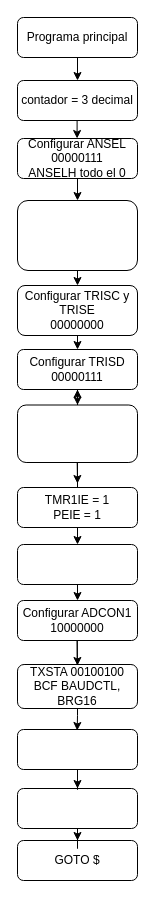
Some shapes in this 155 by 898 pixel diagram are drawn without their labels. Each missing label, with the box of its shape:
Configurar ADCON0 11000001: (16, 544, 138, 584)
Configurar TRISA 00000111 Configurar TRISB 00000000: (16, 200, 138, 270)
Poner en 1 GIE de INTCON: (16, 788, 138, 828)
SPBRG 25D BSF RCSTA, SPEN: (16, 728, 138, 770)
TMR1 CLRF TMR1L y TMR1H T1CON 00110001: (16, 404, 138, 462)
